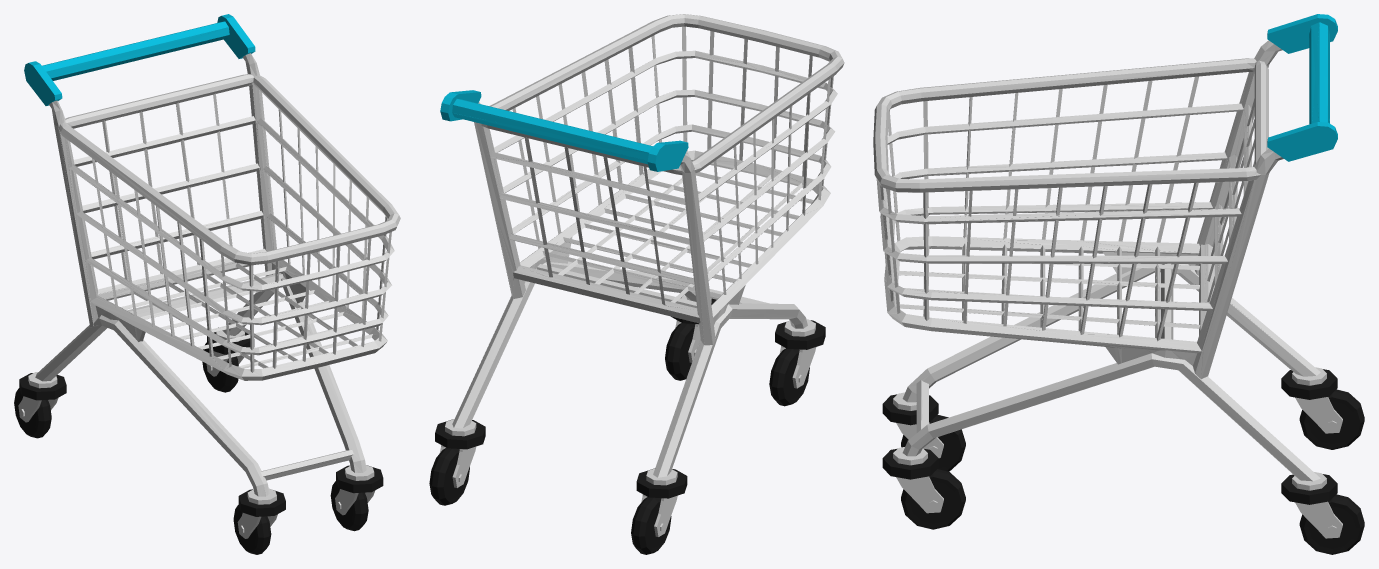
3 renders of one model, left to right at view 1: azimuth 30°, elevation 25°; view 2: azimuth 150°, elevation 25°; view 3: azimuth 270°, elevation 25°, orthographic. The views are drawn at different scales.
Size of the model in its own units: 0.5601 by 0.8764 by 0.9054.
